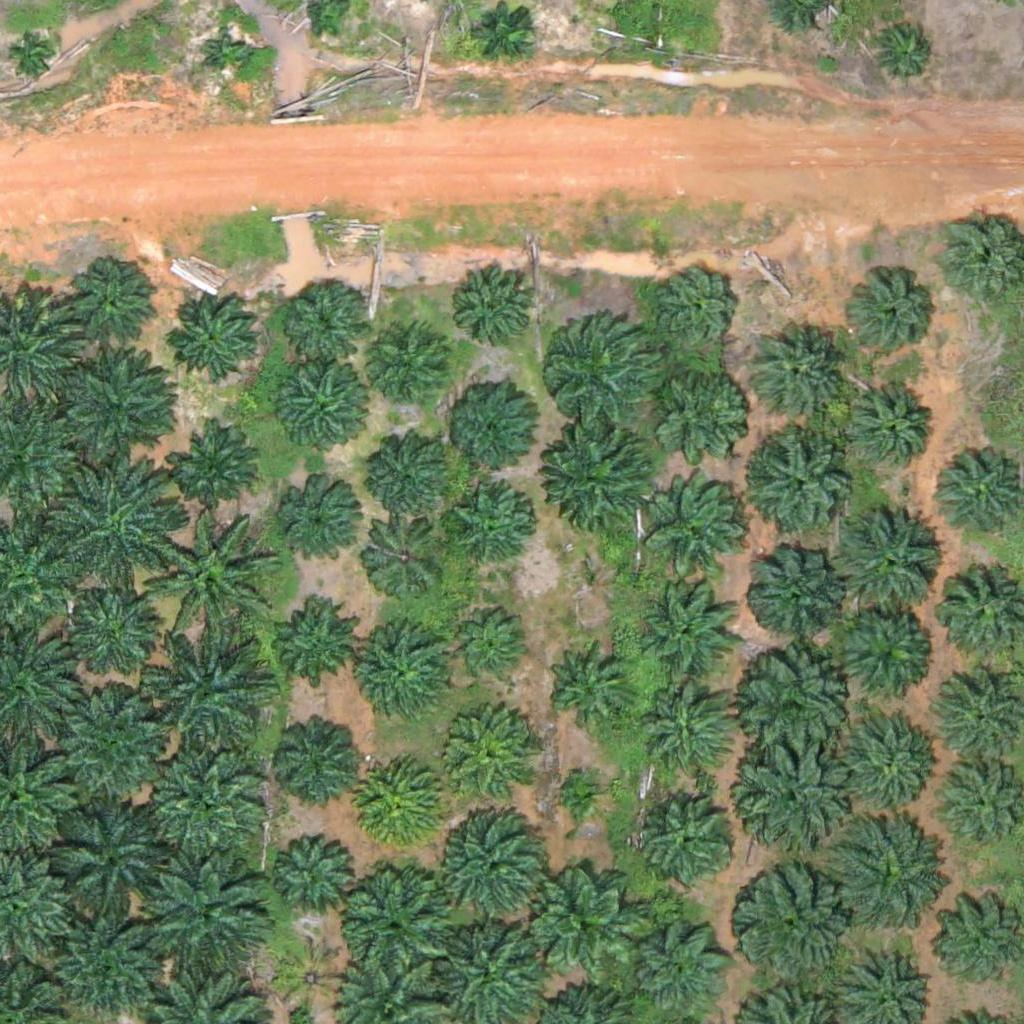Kelapa_Sawit: (47, 463, 172, 589), (47, 689, 172, 815), (44, 796, 169, 922), (139, 860, 264, 986), (147, 632, 272, 758), (144, 516, 269, 642), (432, 804, 557, 930), (524, 860, 649, 986), (541, 310, 666, 436), (51, 342, 176, 467), (142, 735, 267, 860), (835, 815, 948, 928), (733, 742, 846, 855), (339, 862, 451, 976), (829, 503, 941, 616), (746, 431, 858, 544), (739, 650, 851, 763), (840, 709, 940, 810), (832, 601, 932, 702), (748, 323, 848, 424), (735, 866, 835, 967), (640, 790, 740, 891), (640, 686, 740, 787), (635, 580, 735, 681), (650, 477, 750, 578), (553, 428, 653, 529), (744, 543, 844, 643), (357, 628, 457, 728), (654, 355, 754, 455), (841, 383, 929, 471), (72, 588, 160, 676), (275, 367, 363, 455), (280, 482, 368, 570), (268, 594, 356, 682), (272, 711, 360, 799), (358, 759, 446, 847), (444, 717, 532, 805), (172, 420, 259, 509), (446, 383, 533, 472), (278, 275, 365, 363), (365, 429, 452, 517), (935, 896, 1022, 984), (851, 272, 938, 360), (69, 265, 156, 353), (167, 291, 254, 379), (271, 830, 358, 918), (360, 510, 447, 598), (368, 321, 455, 409), (454, 264, 541, 352), (451, 491, 538, 579), (655, 268, 742, 356), (545, 641, 632, 729), (456, 607, 531, 682), (875, 22, 938, 85), (278, 943, 340, 1006), (202, 29, 252, 80), (558, 766, 608, 816), (9, 30, 59, 80)
